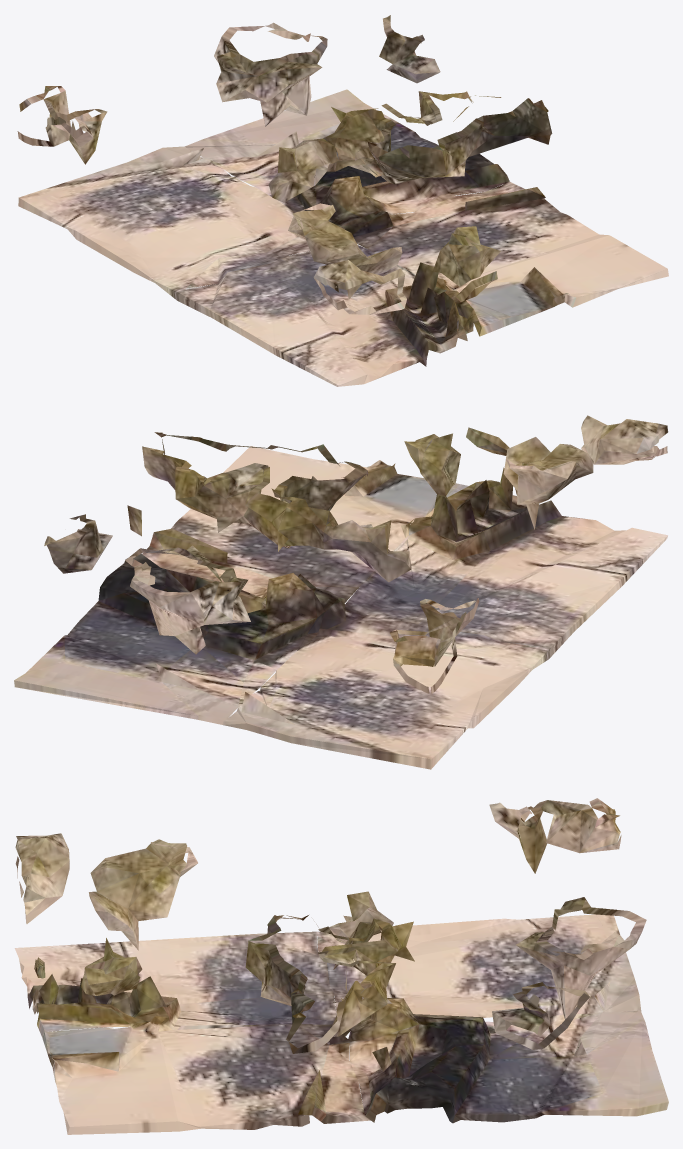
3 views of the same model, one above another, from view 1: azimuth 30°, elevation 25°; view 2: azimuth 150°, elevation 25°; view 3: azimuth 270°, elevation 25° (orthographic). The views are drawn at different scales.
Visible parts, largest first — view 1: Mesh_0; view 2: Mesh_0; view 3: Mesh_0.
Part boxes in pixels (box(x1,y1,x2,y2)): Mesh_0: box(17, 15, 668, 386); Mesh_0: box(14, 415, 668, 769); Mesh_0: box(14, 798, 668, 1134).
Size of the model in its own units: 33.59 by 9.7 by 41.45.
1 material, 1 textured.
